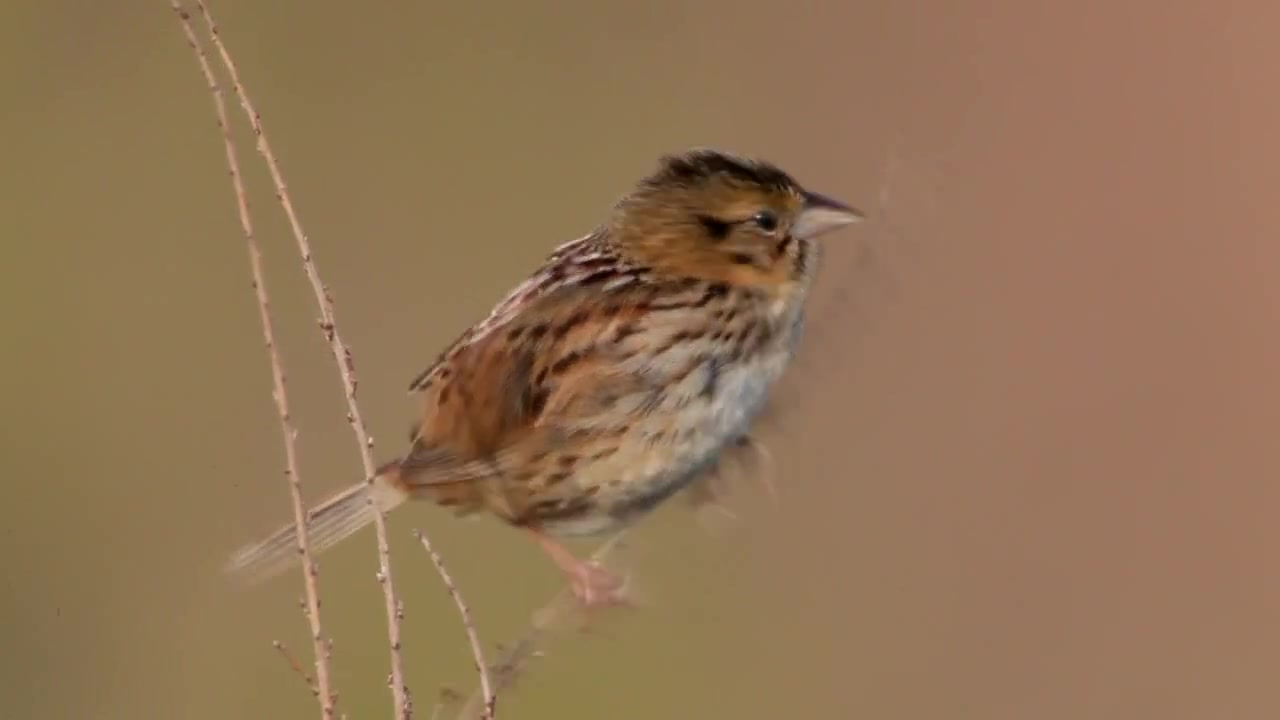bird: (224, 147, 870, 633)
